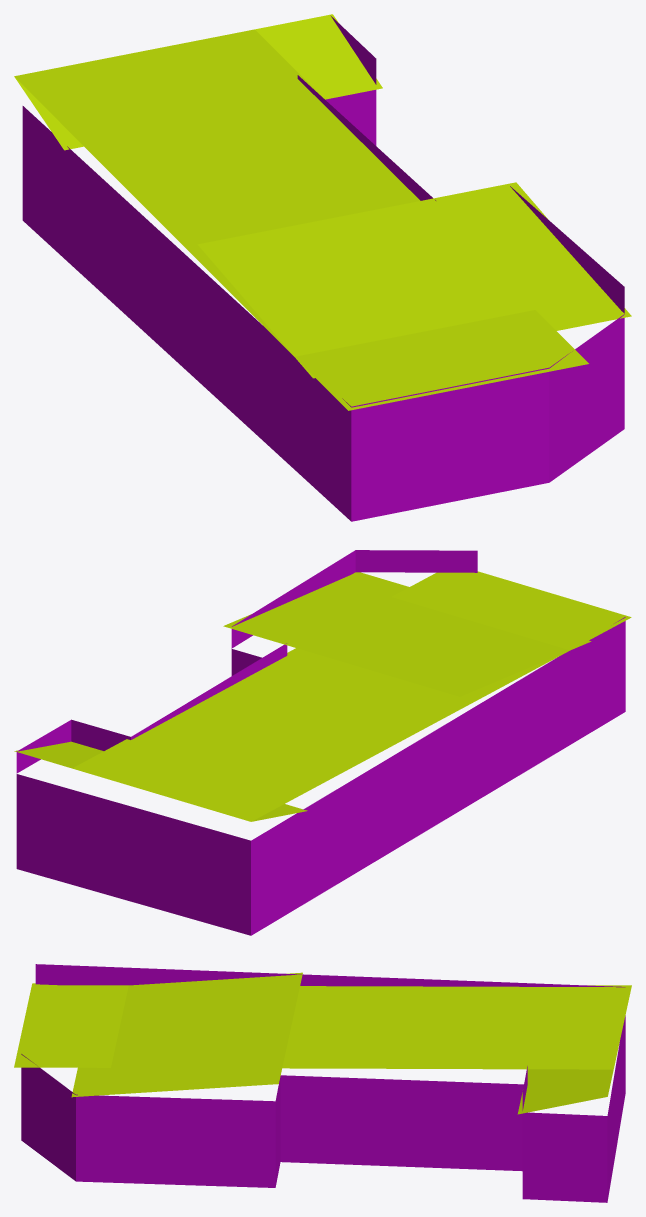
Rendered from bgj_221.glb.
3 views of the same model, one above another, from view 1: azimuth 30°, elevation 25°; view 2: azimuth 150°, elevation 25°; view 3: azimuth 270°, elevation 25° (orthographic). The views are drawn at different scales.
Parts seen in each view (by area): view 1: bgj_221; view 2: bgj_221; view 3: bgj_221.
Part boxes in pixels (<box>): bgj_221: <box>14,14,631,521</box>; bgj_221: <box>14,550,631,935</box>; bgj_221: <box>14,964,631,1202</box>.
Size of the model in its own units: 30 by 11.12 by 58.17.
